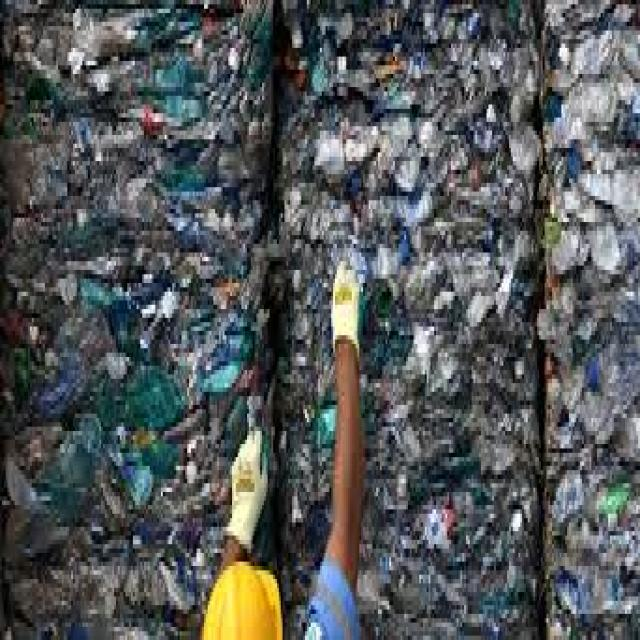heap: (33, 54, 263, 389)
